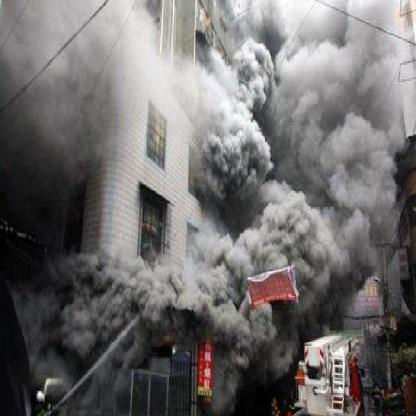smoke: (279, 0, 399, 206), (2, 8, 136, 186), (256, 206, 388, 374), (18, 260, 150, 402), (196, 37, 276, 200), (149, 248, 256, 342), (216, 340, 256, 413)
